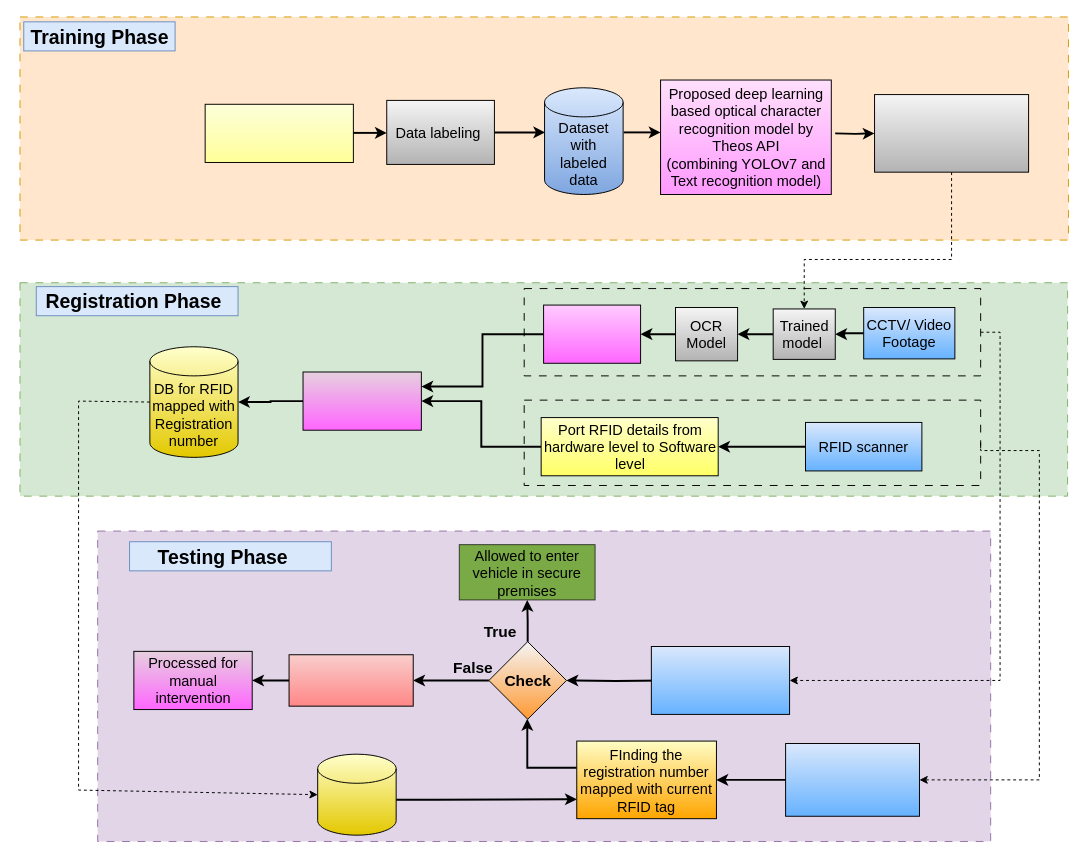
Some shapes in this 1085 by 858 pixel diagram are drawn without their labels. The shapes that lost their labels are listed below. From the top down, each one's box as (x1, y1, x2, y2) in pixels, then its label:
(204, 103, 353, 162): Images of vehicles with number plate
(874, 94, 1029, 172): Trained model with optimized hyper-parameters
(543, 304, 641, 363): Extract registration number
(302, 371, 421, 430): Mapping for each car
(288, 654, 413, 706): Generate report with the vehicle details
(650, 646, 790, 714): Extracted registration number
(317, 753, 396, 835): Mapped Database
(785, 743, 919, 816): Received RFID tag number (EPC number)
